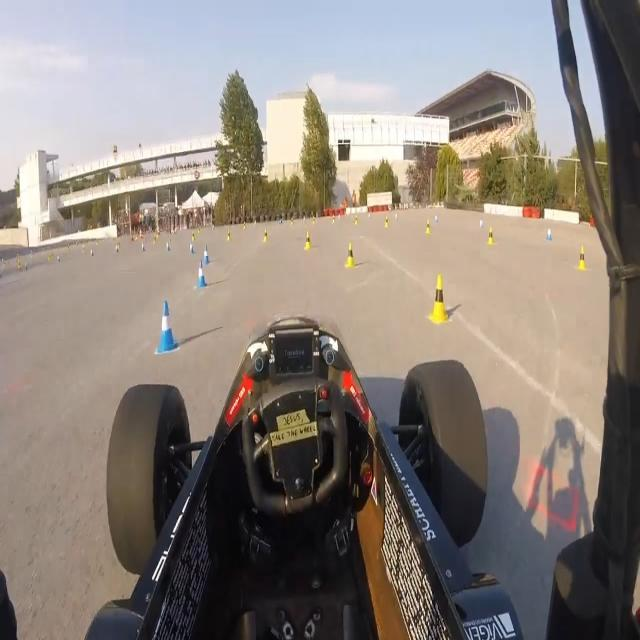blue_cone: (152, 298, 178, 352), (196, 263, 208, 292), (204, 241, 210, 267), (189, 241, 195, 257), (547, 226, 552, 241), (479, 216, 484, 228), (141, 240, 146, 252), (167, 241, 170, 253), (115, 244, 119, 253), (90, 248, 94, 256), (435, 215, 438, 224)
yellow_cone: (428, 272, 450, 327), (345, 241, 356, 269), (576, 245, 586, 272), (304, 229, 312, 251), (487, 228, 495, 245), (426, 218, 431, 235), (263, 229, 268, 244), (226, 230, 231, 242), (354, 214, 359, 226), (384, 215, 388, 228), (191, 230, 195, 242)
